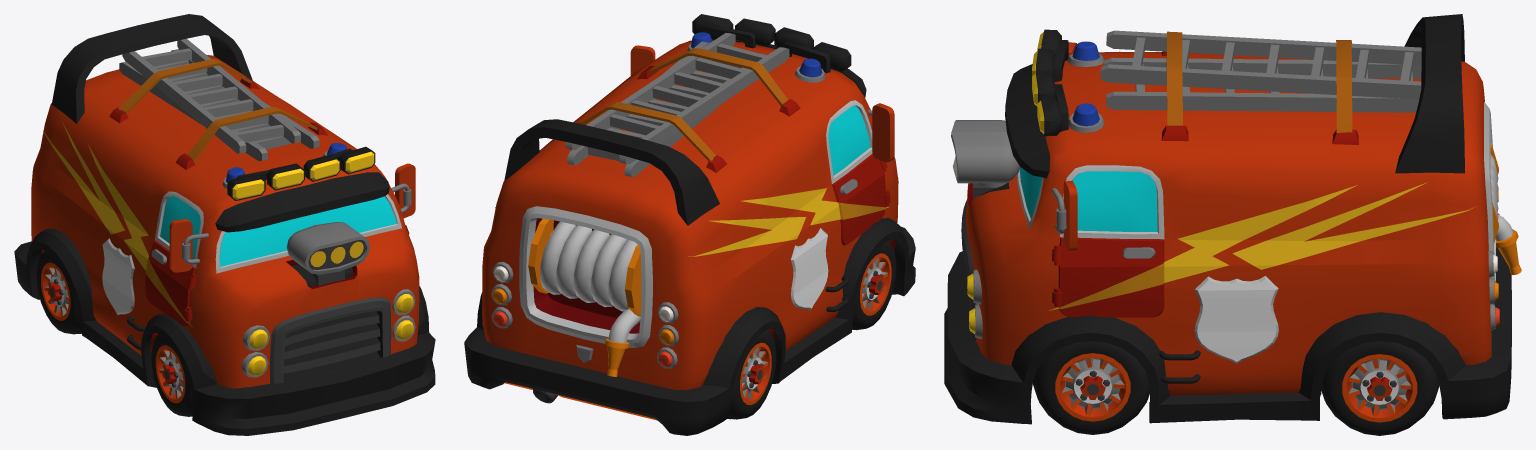
Rendered from VEH24-C.fbx.
3 views of the same model, side by side, from view 1: azimuth 30°, elevation 25°; view 2: azimuth 150°, elevation 25°; view 3: azimuth 270°, elevation 25° (orthographic). The views are drawn at different scales.
Parts seen in each view (by area): view 1: VEH24_C, VEH24C_BodyParts, VEH24C_Wheel_BR, VEH24C_Wheel_FR; view 2: VEH24_C, VEH24C_BodyParts, VEH24C_Wheel_BR, VEH24C_Wheel_FR; view 3: VEH24_C, VEH24C_BodyParts, VEH24C_Wheel_BL, VEH24C_Wheel_FL.
Boxes of the visible parts, <box> form: VEH24_C: <box>14,14,435,435</box>; VEH24C_BodyParts: <box>118,38,319,162</box>; VEH24C_Wheel_BR: <box>36,251,81,334</box>; VEH24C_Wheel_FR: <box>151,334,192,416</box>; VEH24_C: <box>464,14,915,435</box>; VEH24C_BodyParts: <box>504,33,789,420</box>; VEH24C_Wheel_BR: <box>727,330,776,419</box>; VEH24C_Wheel_FR: <box>852,241,896,330</box>; VEH24_C: <box>944,14,1511,424</box>; VEH24C_BodyParts: <box>1100,30,1521,274</box>; VEH24C_Wheel_BL: <box>1321,341,1439,435</box>; VEH24C_Wheel_FL: <box>1033,341,1150,434</box>.
Size of the model in its own units: 266 by 268 by 430.
Materials: 1 (1 with a texture image).
